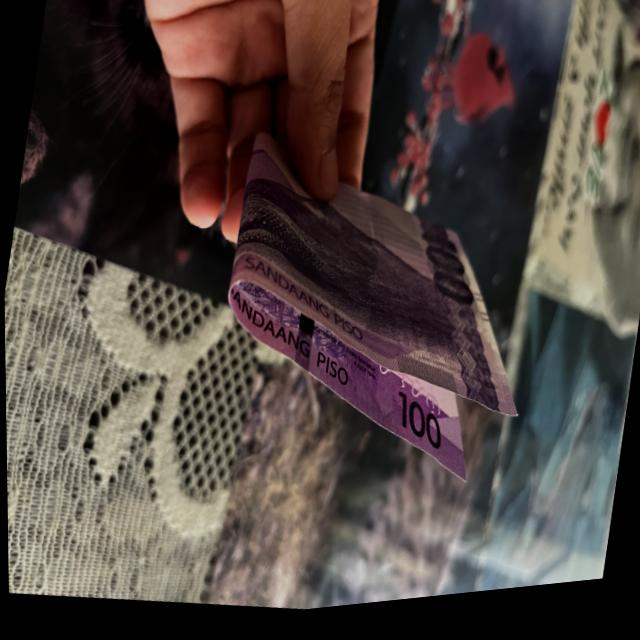see_through_mark: (372, 358, 445, 432)
